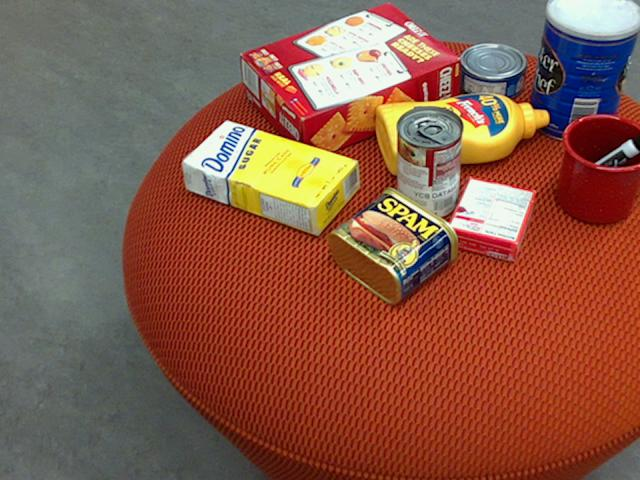cracker_box: (239, 2, 459, 160)
gelatin_box: (446, 177, 537, 263)
large_marker: (559, 131, 639, 198)
master_chef_can: (526, 0, 639, 142)
mug: (556, 113, 639, 223)
mustard_bottle: (374, 93, 548, 174)
potted_meat_can: (327, 186, 457, 304)
sugar_box: (179, 118, 358, 236)
tomato_soup_can: (394, 103, 462, 219)
tuna_fish_can: (454, 42, 525, 99)
